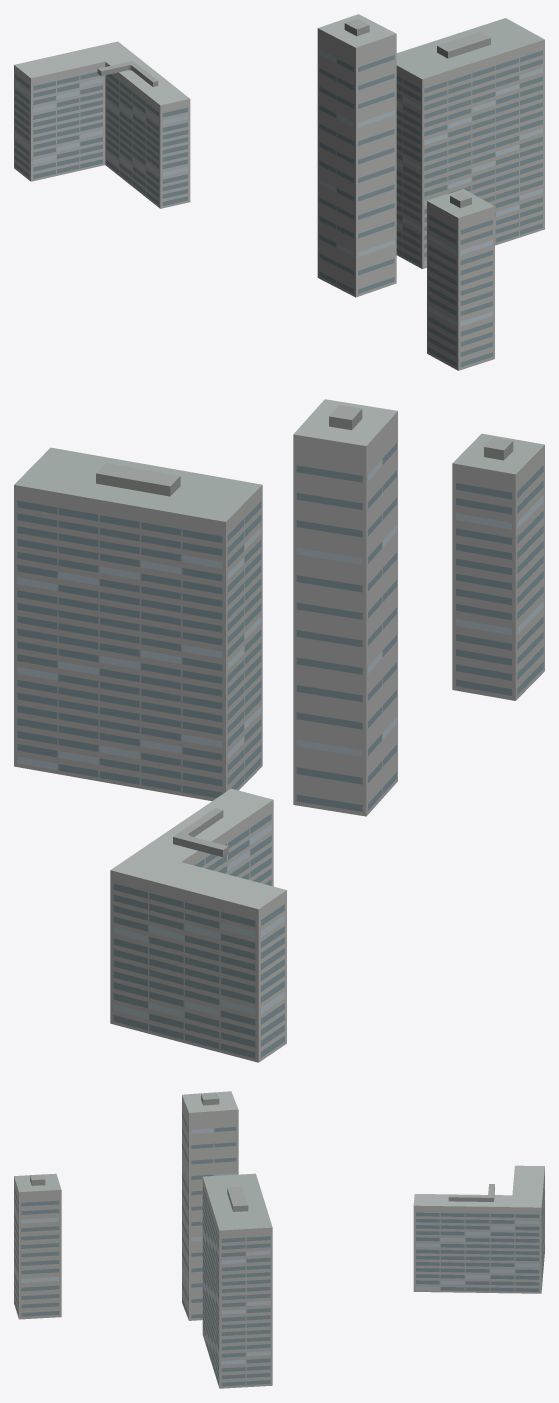
Rendered from apt-a13783802.glb.
The picture shows the model from 3 angles, top to bottom: view 1: azimuth 30°, elevation 25°; view 2: azimuth 150°, elevation 25°; view 3: azimuth 270°, elevation 25°; orthographic projection. The views are drawn at different scales.
Parts seen in each view (by area): view 1: apt-a13783802; view 2: apt-a13783802; view 3: apt-a13783802.
Boxes of the visible parts, bbox=[...] form: apt-a13783802: bbox=[14, 14, 544, 370]; apt-a13783802: bbox=[14, 399, 544, 1062]; apt-a13783802: bbox=[14, 1091, 544, 1388].
Size of the model in its own units: 124 by 90 by 203.
